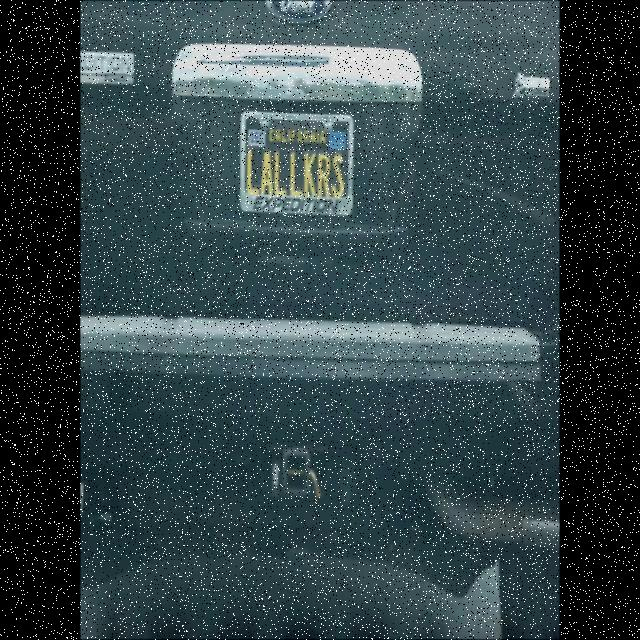licenseplate: (235, 98, 365, 234)
